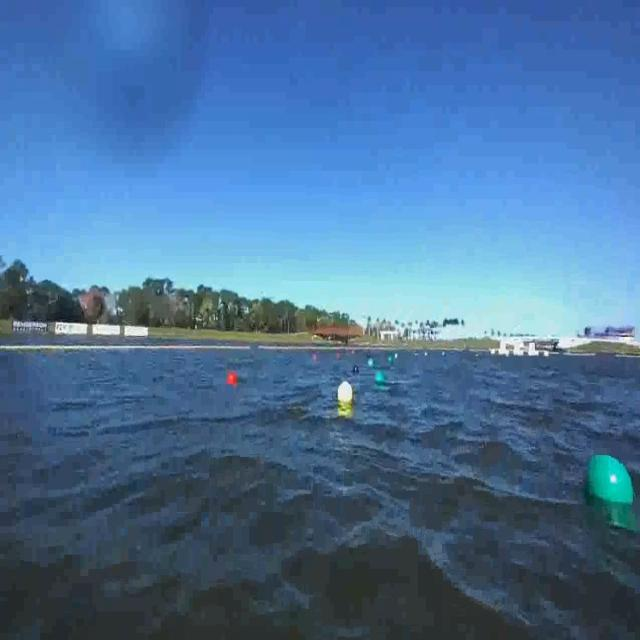black-buoy: (352, 363, 360, 374)
green-buoy: (578, 450, 637, 513), (376, 371, 386, 386)
red-buoy: (226, 370, 237, 384)
yellow-buoy: (337, 380, 352, 405)
